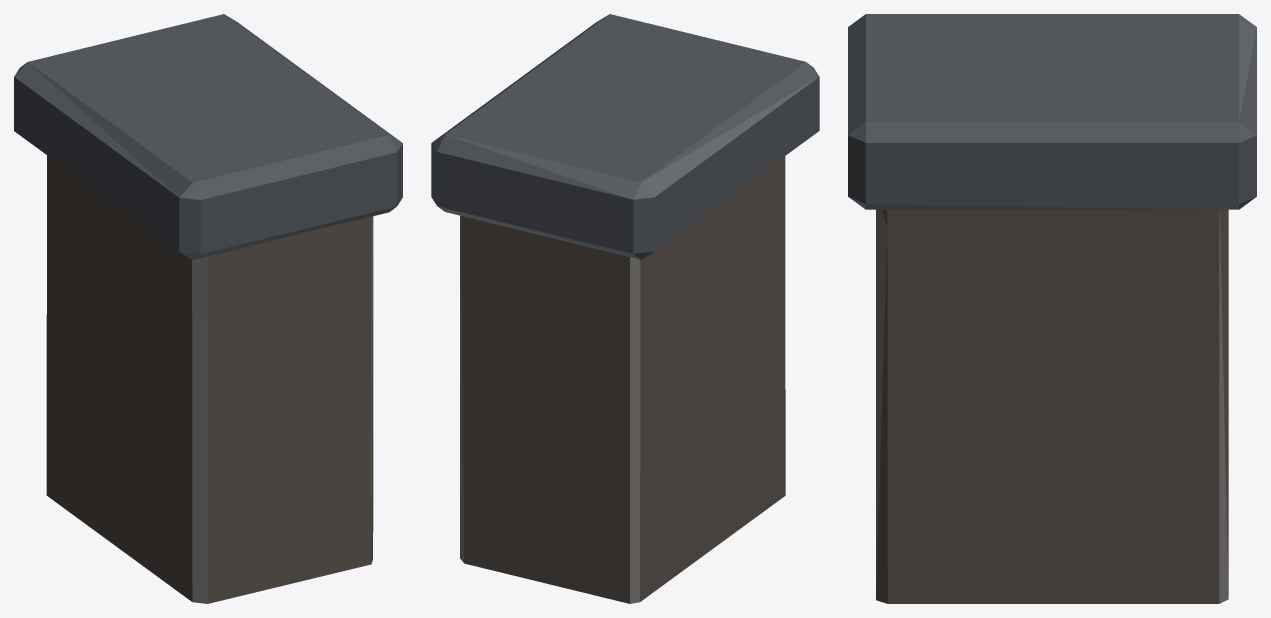
Rendered from MCastle_MasonryPillar_02_Half.FBX.
The picture shows the model from 3 angles, left to right: view 1: azimuth 30°, elevation 25°; view 2: azimuth 150°, elevation 25°; view 3: azimuth 270°, elevation 25°; orthographic projection. The views are drawn at different scales.
Parts seen in each view (by area): view 1: MCastle_MasonryPillar_02_Half_LOD0; view 2: MCastle_MasonryPillar_02_Half_LOD0; view 3: MCastle_MasonryPillar_02_Half_LOD0.
Boxes of the visible parts, x1,y1,x2,y2 form: MCastle_MasonryPillar_02_Half_LOD0: (14, 14, 402, 603); MCastle_MasonryPillar_02_Half_LOD0: (431, 14, 819, 603); MCastle_MasonryPillar_02_Half_LOD0: (848, 14, 1256, 603).
Size of what is drawn, in the model's own units: 1.26 by 2.3 by 1.76.
